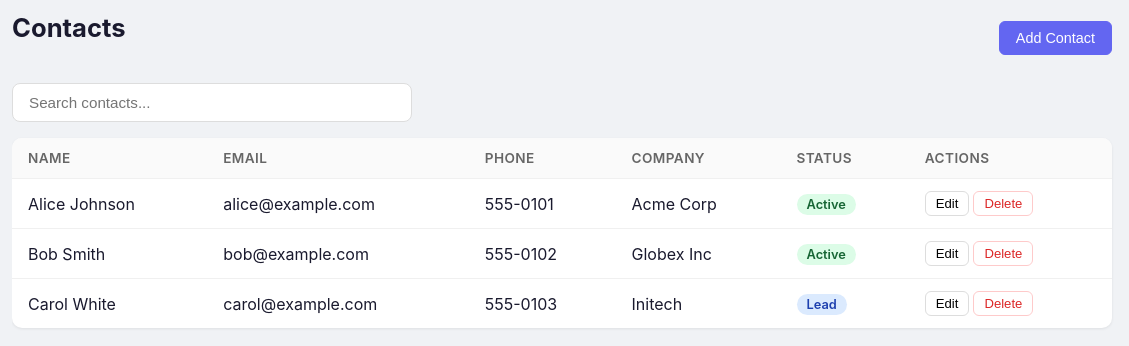
Scenario: Contacts › deletes a contact
The image size is (1129, 346).
Click the button "Delete" in the row of "Alice Johnson".
click(1003, 204)  # box [973,191,1033,216]
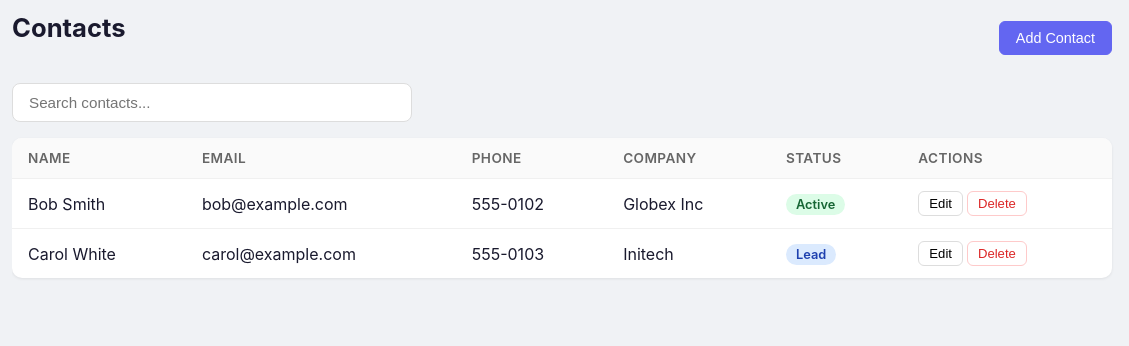
Result: the text "Alice Johnson" is gone
